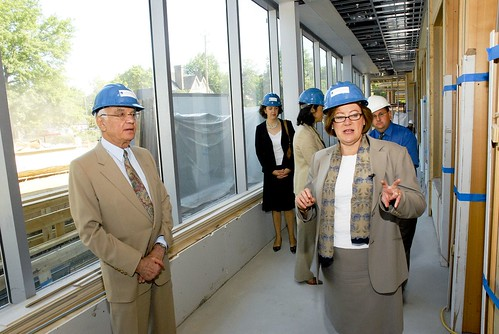person hardhat: (92, 83, 145, 146), (324, 81, 369, 145), (364, 94, 392, 130), (300, 88, 325, 126), (260, 93, 283, 119)
